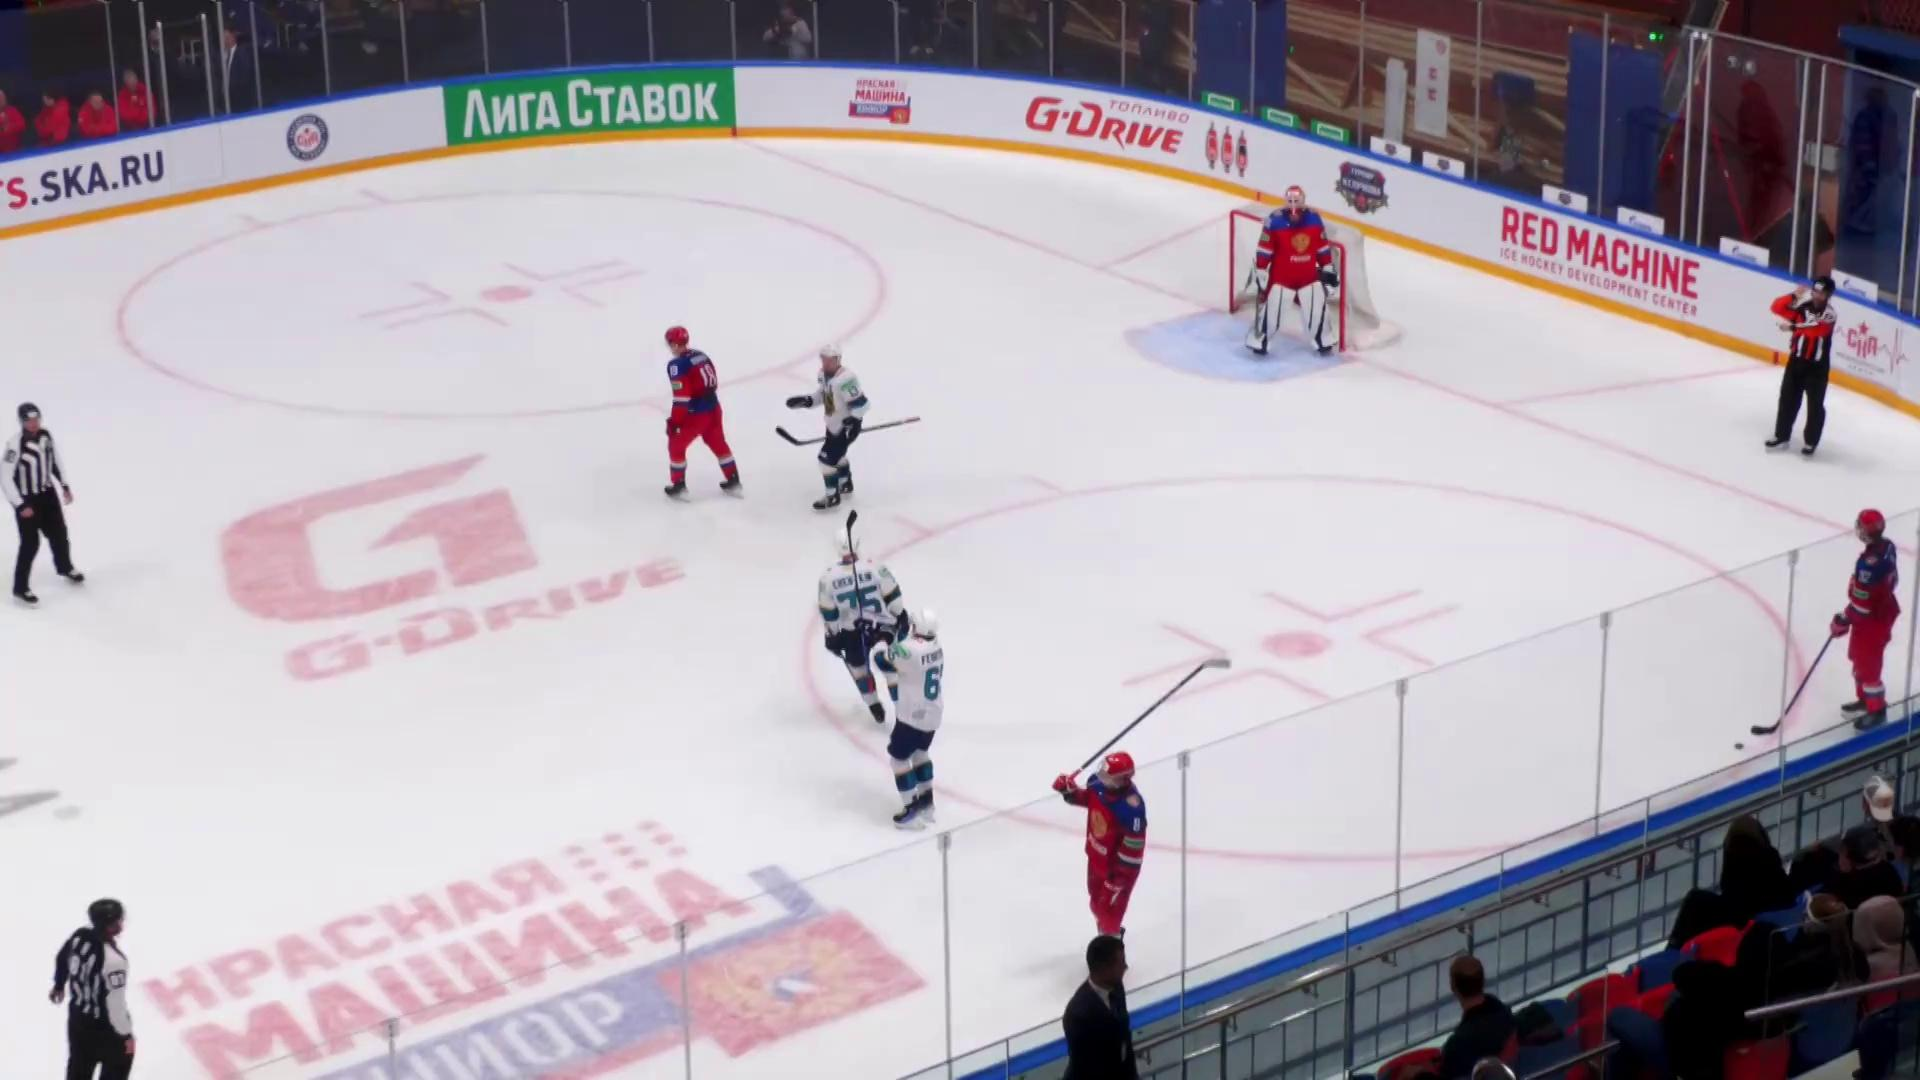ball: (1734, 742, 1745, 752)
